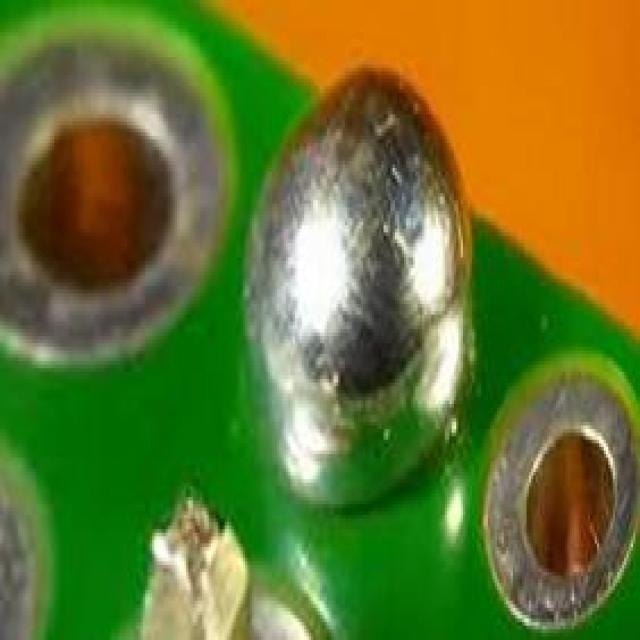redundant: (249, 71, 473, 505)
